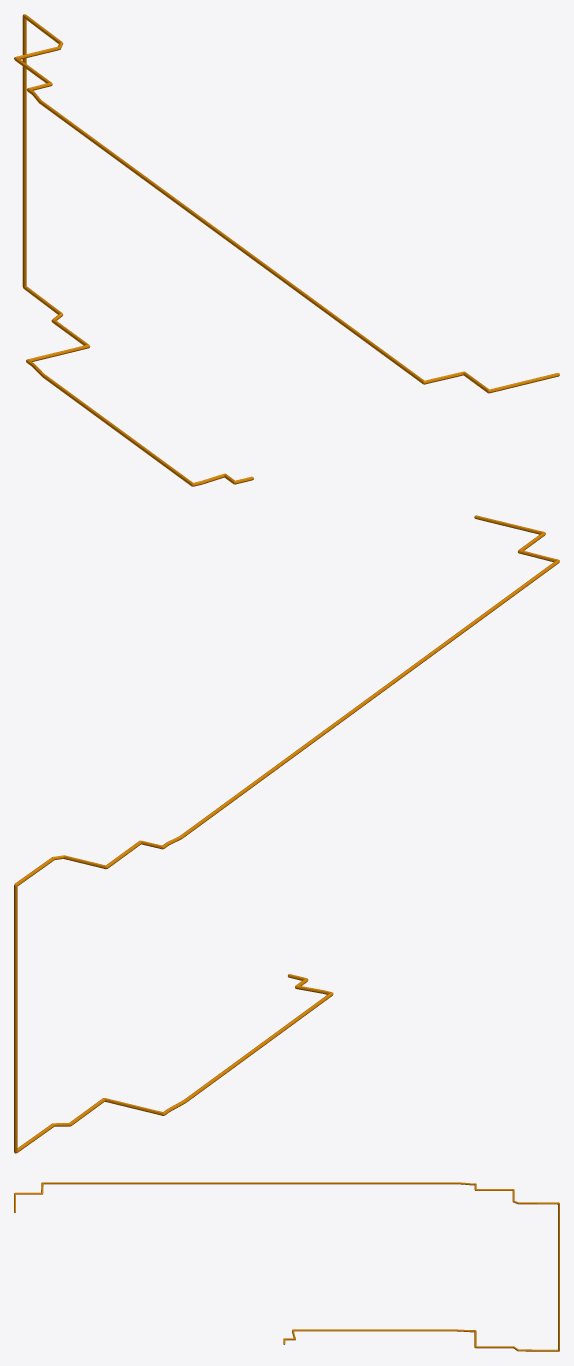
3 views of the same model, one above another, from view 1: azimuth 30°, elevation 25°; view 2: azimuth 150°, elevation 25°; view 3: azimuth 270°, elevation 25° (orthographic). The views are drawn at different scales.
Bounding box in the file's own units: 651 × 1520 × 5044.
